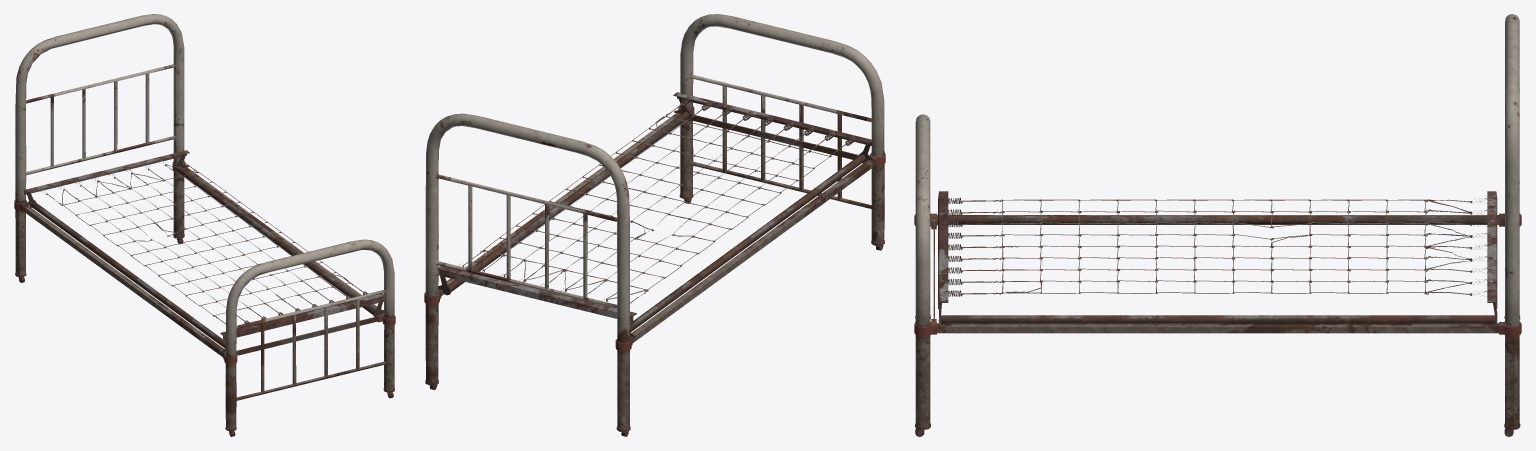
Rendered from ironbed.glb.
The picture shows the model from 3 angles, left to right: view 1: azimuth 30°, elevation 25°; view 2: azimuth 150°, elevation 25°; view 3: azimuth 270°, elevation 25°; orthographic projection. The views are drawn at different scales.
Parts seen in each view (by area): view 1: old_bed_frame; view 2: old_bed_frame; view 3: old_bed_frame.
Part boxes in pixels (<box>): old_bed_frame: <box>14,14,395,436</box>; old_bed_frame: <box>424,14,885,436</box>; old_bed_frame: <box>914,14,1521,436</box>.
Size of the model in its own units: 0.9047 by 1.2 by 2.
1 material, 1 textured.
